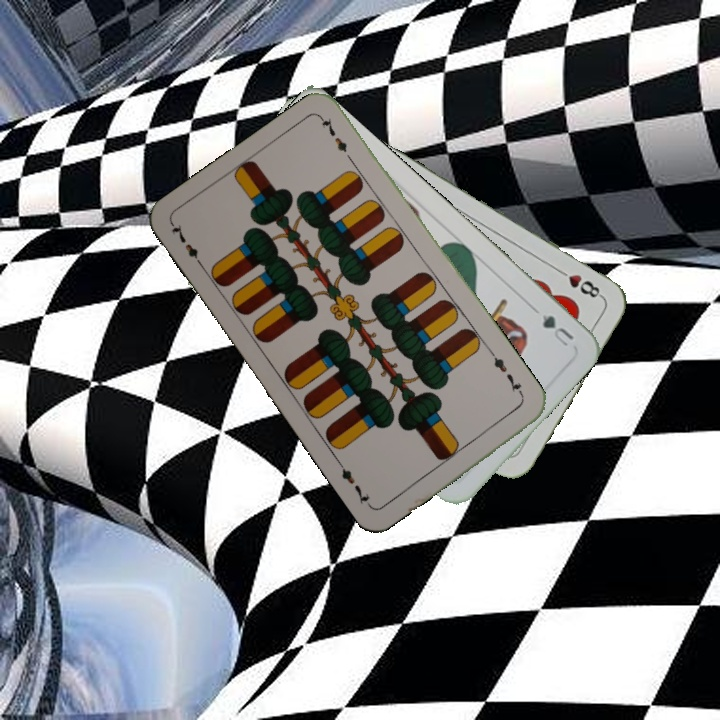E7: (167, 220, 207, 272), (488, 349, 527, 400)
GU: (538, 310, 577, 349)
H8: (551, 264, 605, 301)
